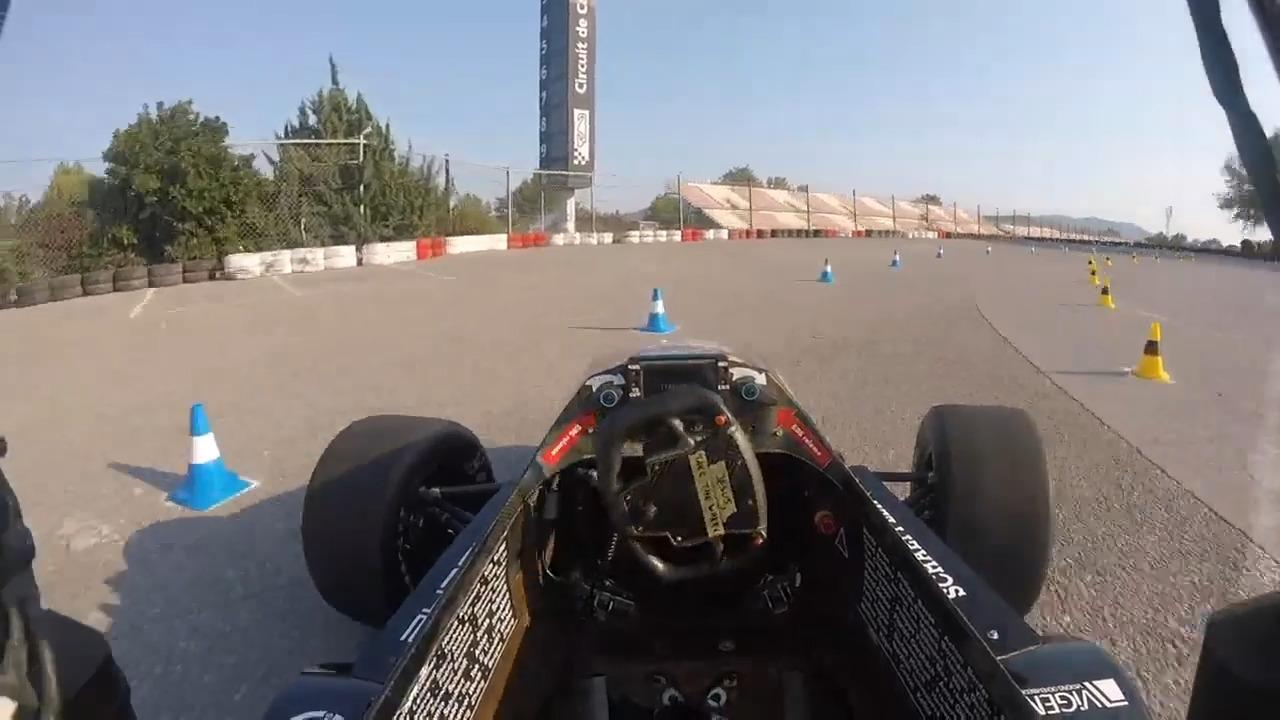blue_cone: (176, 404, 235, 501), (646, 287, 670, 333), (821, 259, 834, 282), (935, 243, 945, 259), (891, 250, 899, 266), (985, 242, 993, 255)
yellow_cone: (1134, 323, 1167, 380), (1100, 278, 1112, 311), (1086, 253, 1095, 276), (1089, 266, 1099, 285), (1104, 252, 1111, 266), (1132, 252, 1137, 264)
